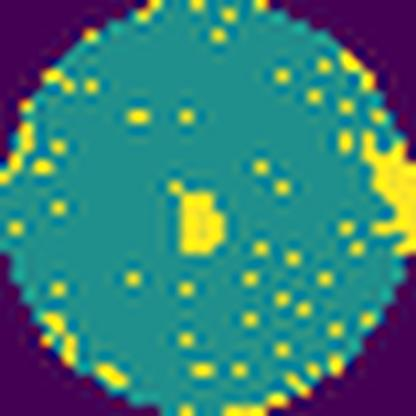Edge-Loc: (333, 40, 416, 277)
